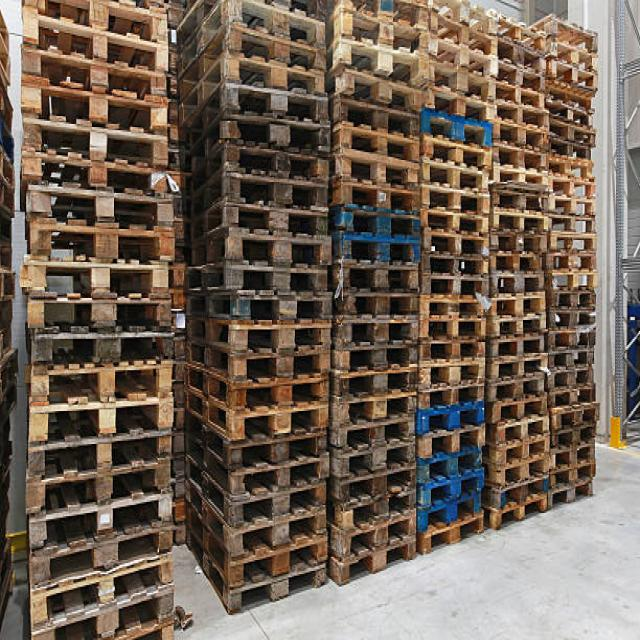Wooden-Pallets: (23, 549, 176, 625), (183, 502, 327, 568), (14, 42, 170, 102), (24, 460, 178, 518), (182, 431, 328, 486), (188, 316, 335, 368), (18, 220, 175, 262), (24, 322, 174, 365), (17, 150, 174, 191), (331, 57, 429, 117), (217, 20, 330, 70), (212, 224, 330, 268), (334, 248, 423, 295), (19, 439, 176, 462), (419, 356, 491, 394), (424, 136, 494, 172), (483, 203, 548, 238), (549, 36, 598, 77), (546, 150, 598, 184), (543, 266, 600, 292), (495, 422, 555, 446), (546, 385, 597, 408)
